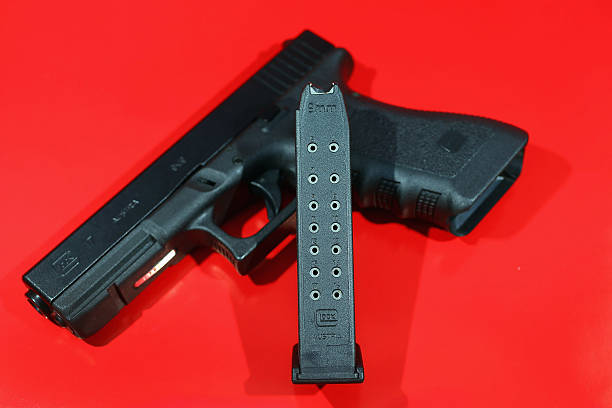pistol: (21, 22, 530, 343)
